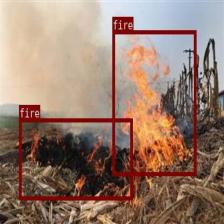fire: (112, 30, 196, 175), (19, 118, 132, 200)
